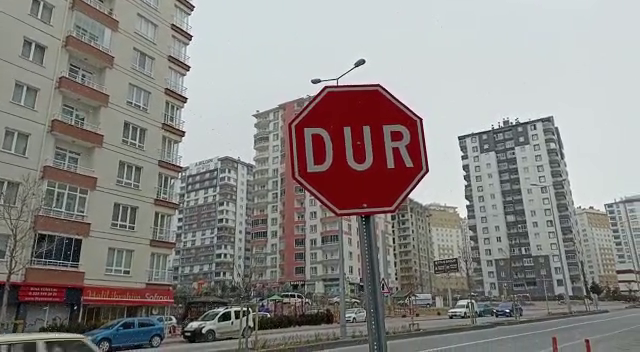stop: (283, 80, 435, 220)
